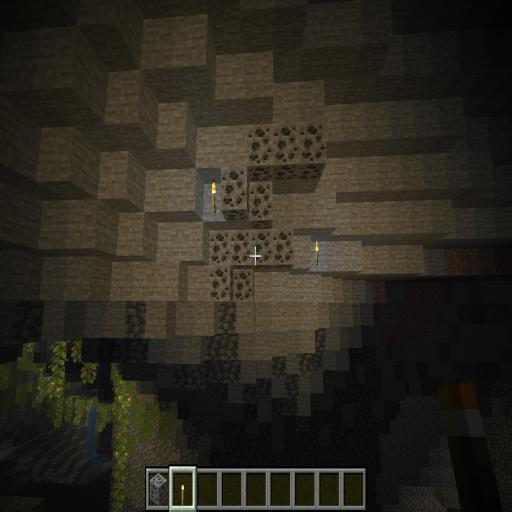coal ore: (192, 104, 328, 308)
